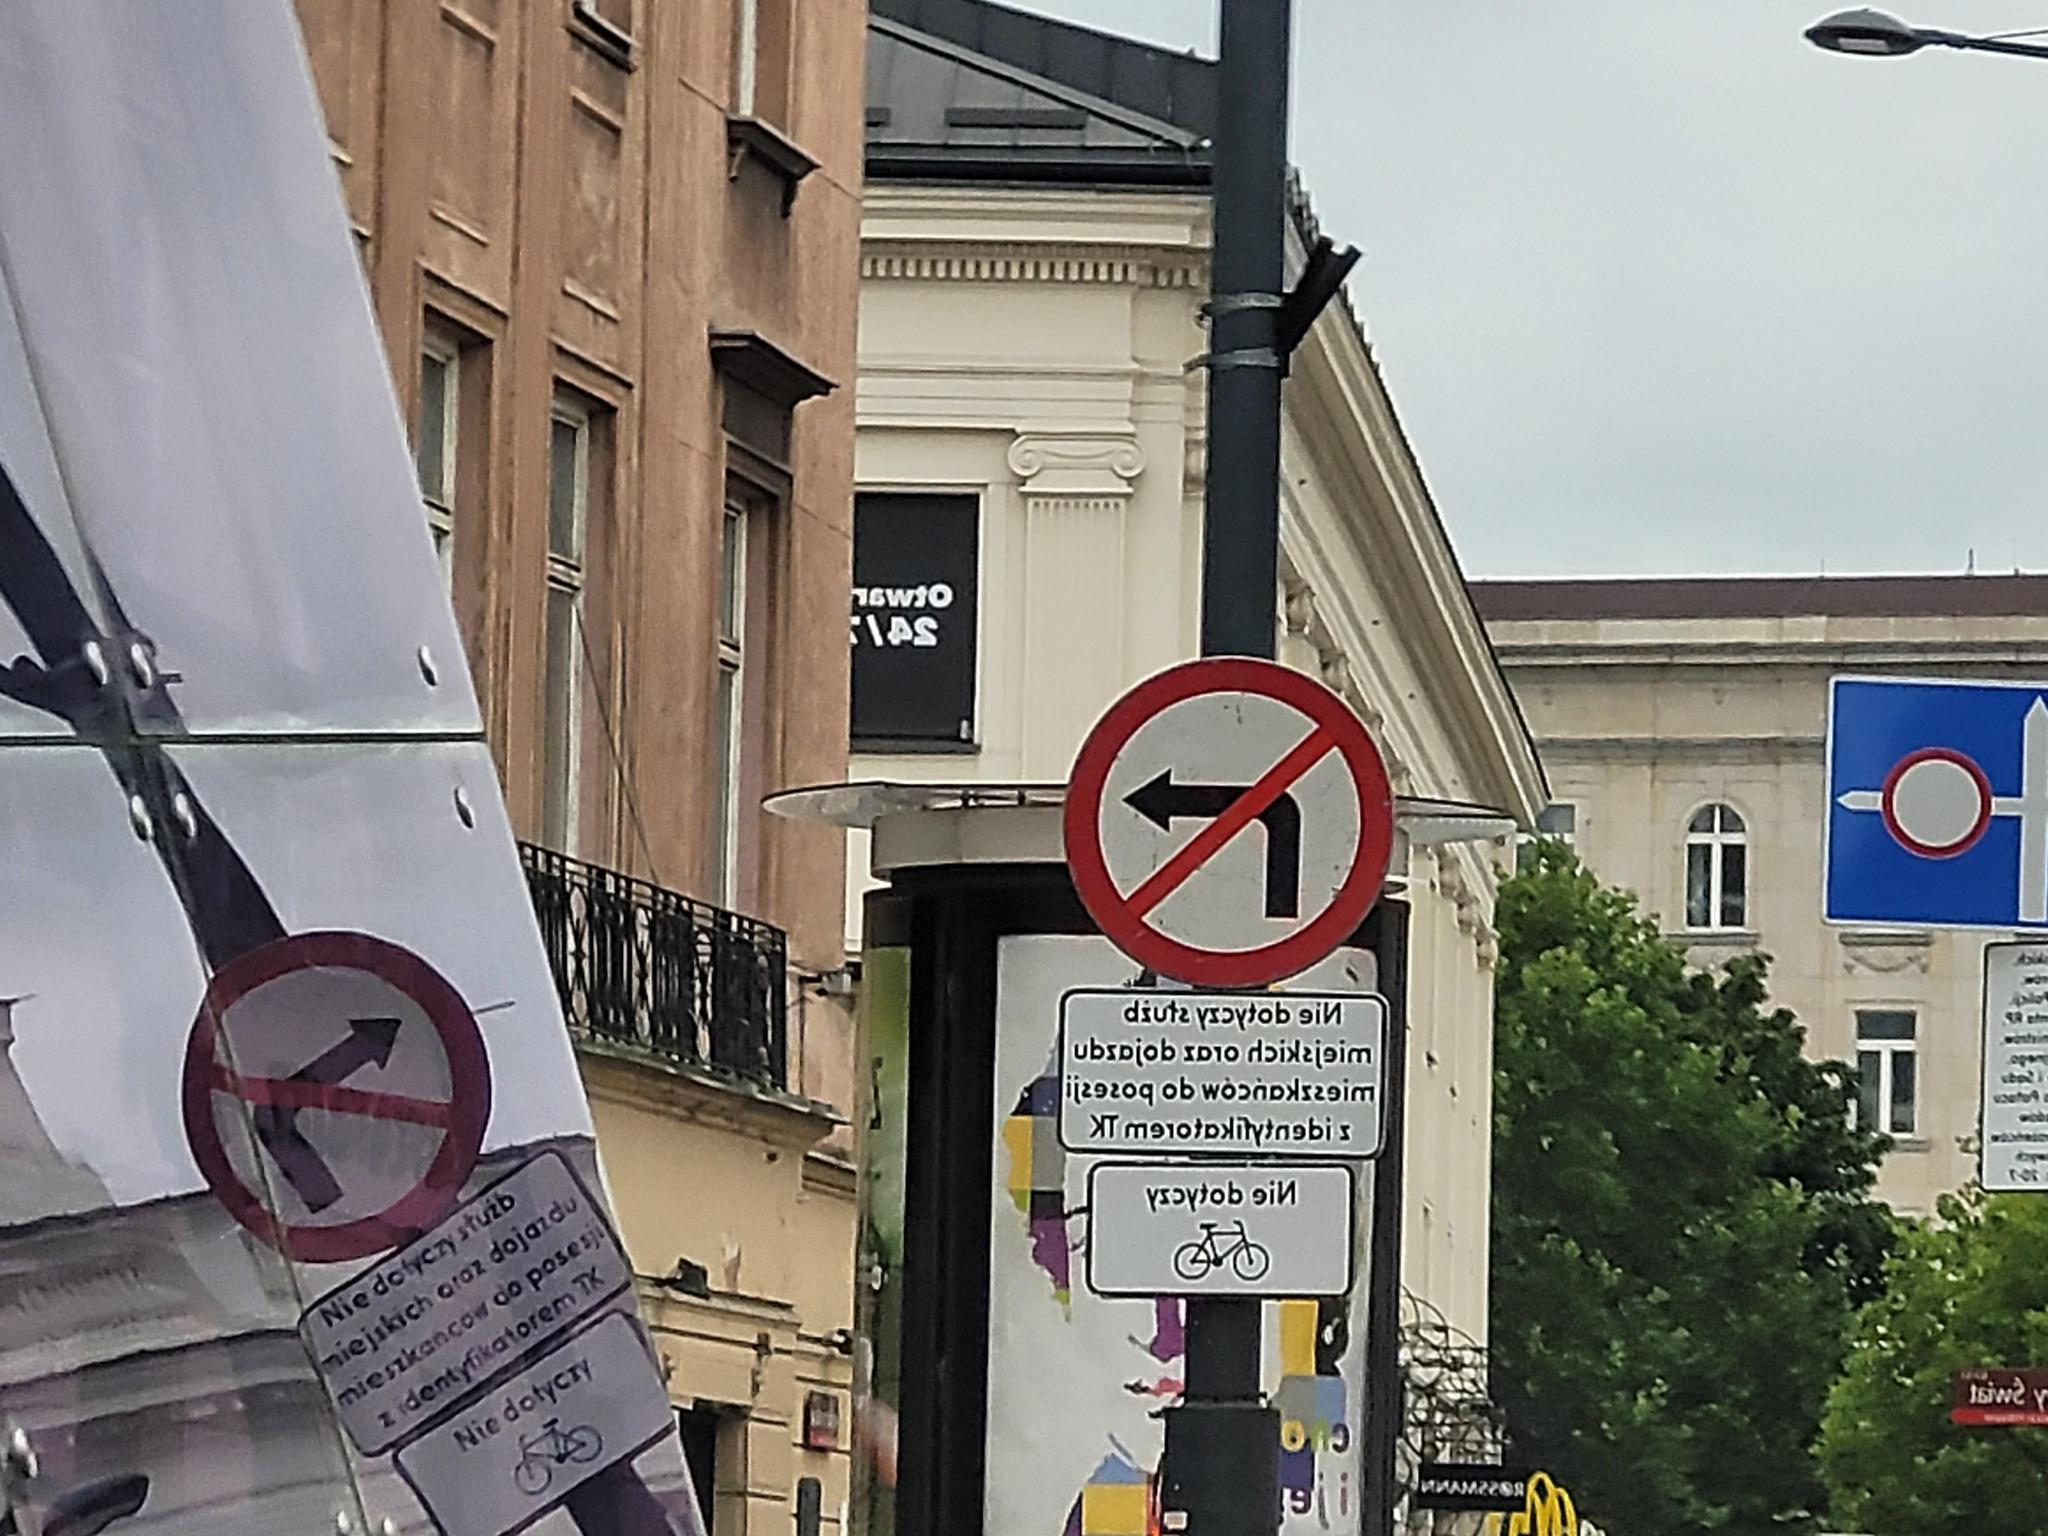other: (1832, 684, 2048, 921), (1063, 999, 1376, 1155), (1089, 1165, 1348, 1294)
prohibitory: (1061, 657, 1395, 987)
